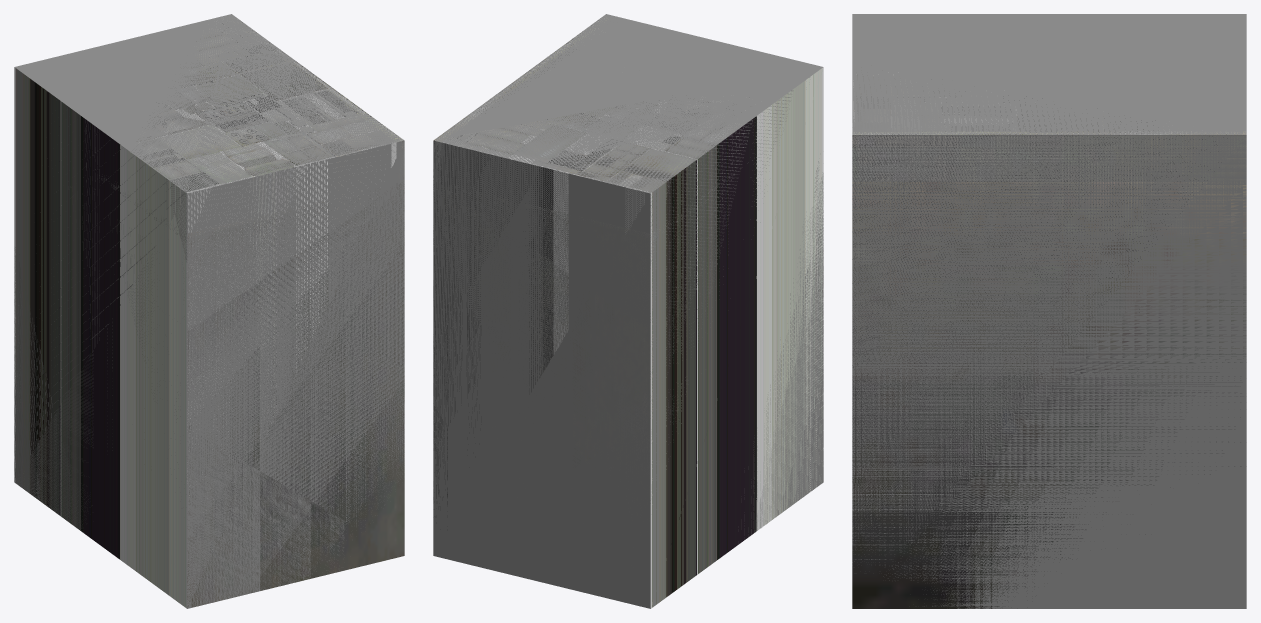
The model's file is counter_top_03.FBX.
3 views of the same model, side by side, from view 1: azimuth 30°, elevation 25°; view 2: azimuth 150°, elevation 25°; view 3: azimuth 270°, elevation 25° (orthographic). The views are drawn at different scales.
Parts seen in each view (by area): view 1: bounds, colbox-1, counter_top_three100; view 2: bounds, colbox-1, counter_top_three100; view 3: bounds, counter_top_three100, colbox-1.
Boxes of the visible parts, x1,y1,x2,y2 form: bounds: (14,14,404,608); colbox-1: (14,17,396,608); counter_top_three100: (14,22,404,607); bounds: (433,14,823,608); colbox-1: (433,21,823,608); counter_top_three100: (433,29,823,504); bounds: (852,14,1246,608); counter_top_three100: (852,131,1246,608); colbox-1: (852,77,1202,463).
Bounding box in the file's own units: 63.93 × 117 × 88.07.
